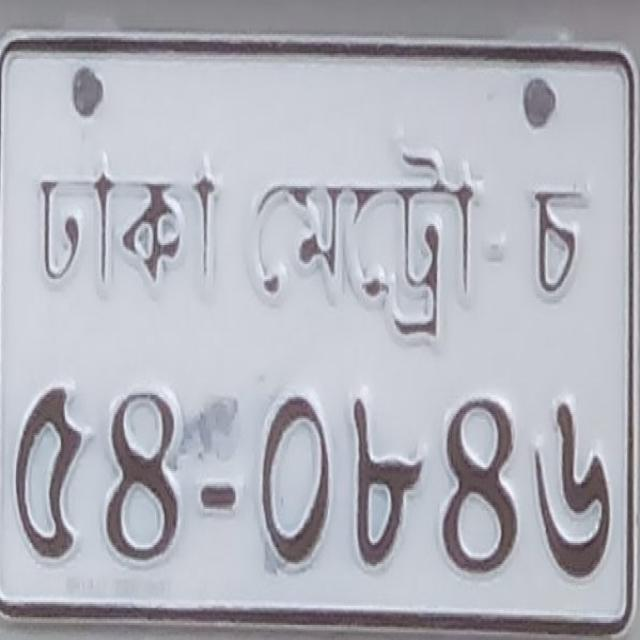numberplate: (0, 27, 638, 637)
